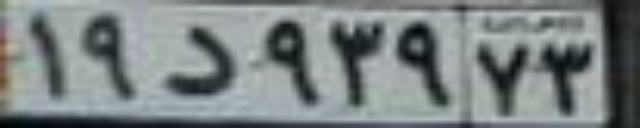1: (29, 12, 62, 95)
3: (327, 19, 387, 106), (541, 40, 600, 115)
7: (474, 39, 534, 116)
9: (262, 20, 319, 107), (395, 20, 447, 106), (78, 17, 131, 99)
dal: (164, 26, 238, 95)
